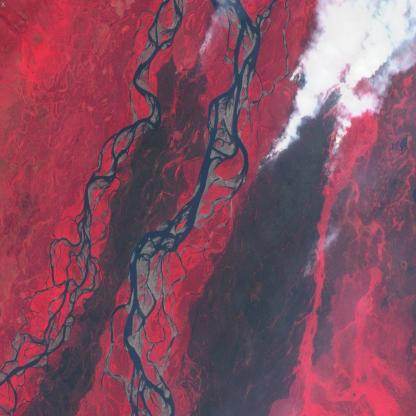fire: (252, 53, 354, 182), (169, 40, 216, 104), (298, 260, 320, 288)
